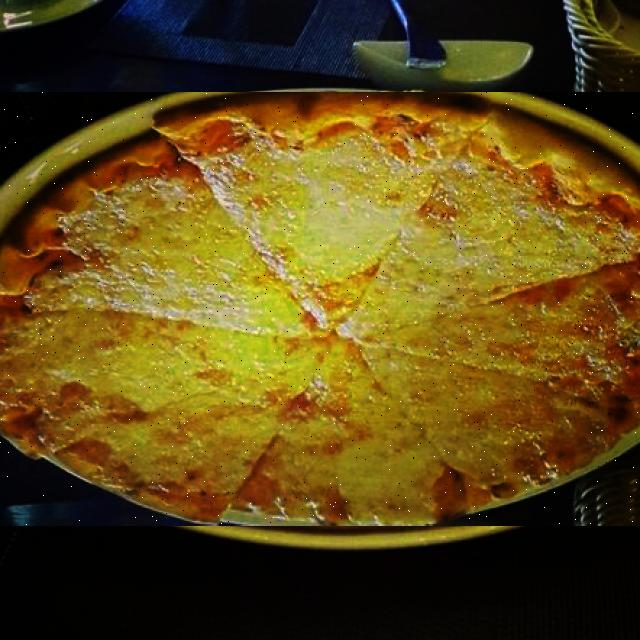Pizza: (0, 93, 640, 525)
